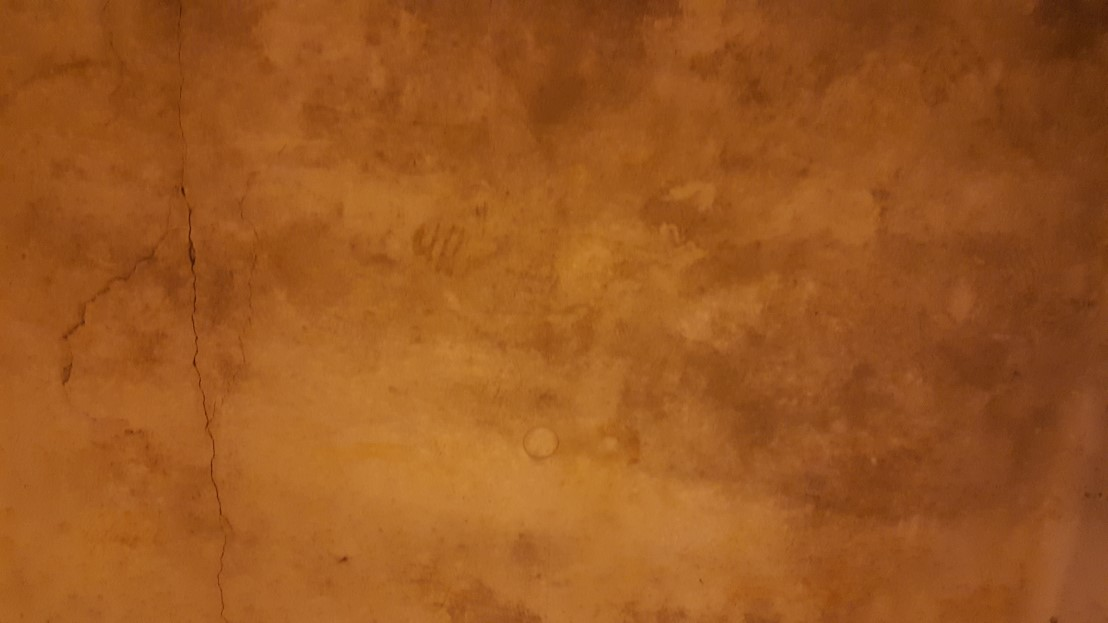Crack: (152, 0, 240, 623), (198, 155, 300, 437), (37, 190, 193, 374)
